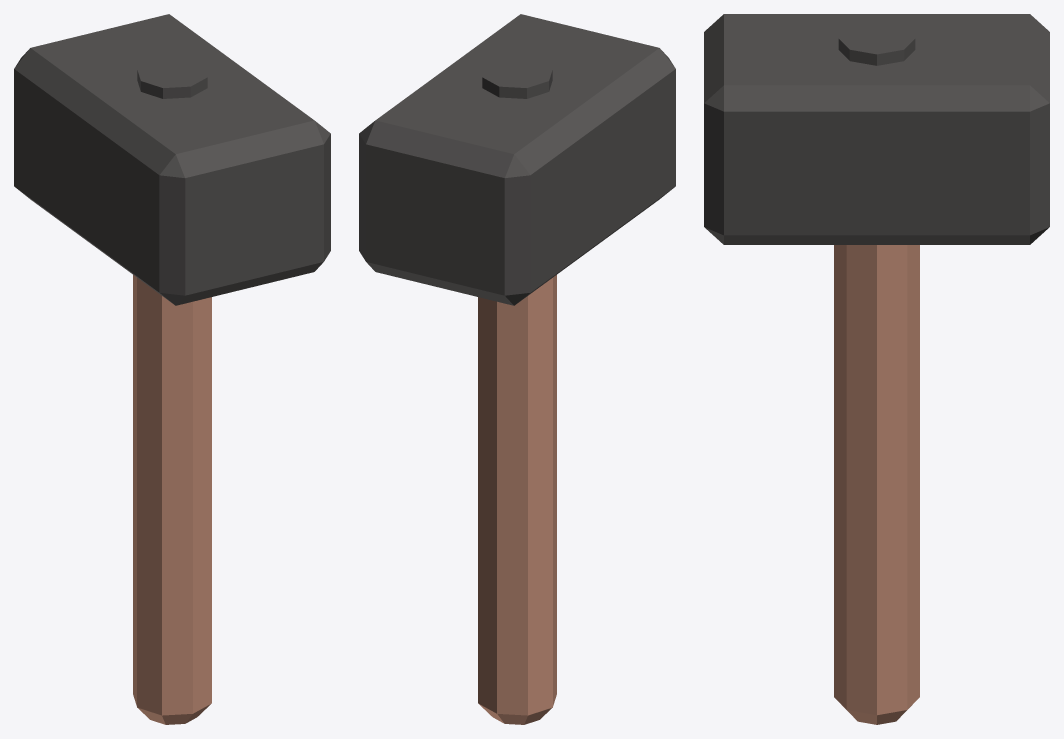
The model's file is Hammer.glb.
3 views of the same model, side by side, from view 1: azimuth 30°, elevation 25°; view 2: azimuth 150°, elevation 25°; view 3: azimuth 270°, elevation 25° (orthographic). The views are drawn at different scales.
Parts seen in each view (by area): view 1: Hammer; view 2: Hammer; view 3: Hammer.
Boxes of the visible parts, x1,y1,x2,y2 form: Hammer: (14,14,330,724); Hammer: (359,14,675,724); Hammer: (704,14,1049,724).
Size of the model in its own units: 18.8 by 67.21 by 31.19.
